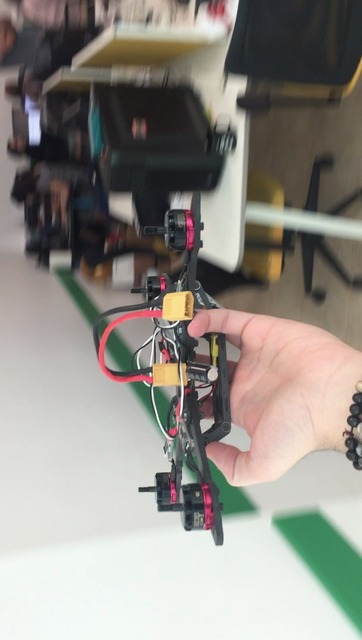drone: (94, 189, 233, 548)
